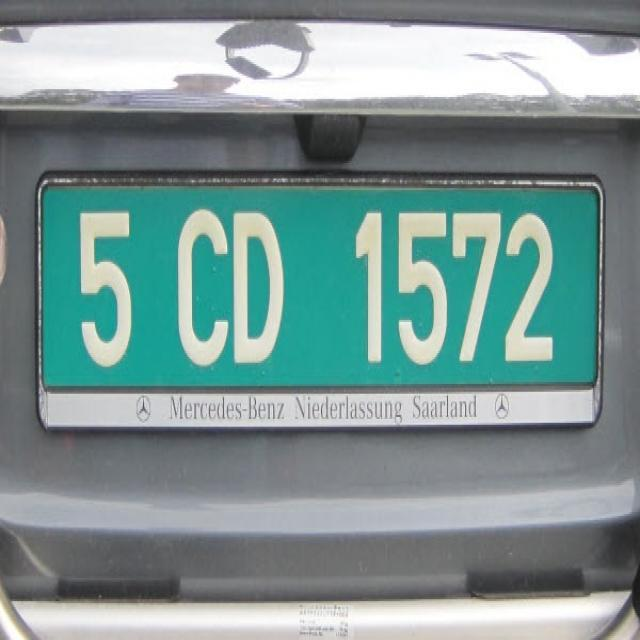licenseplate: (34, 171, 604, 425)
